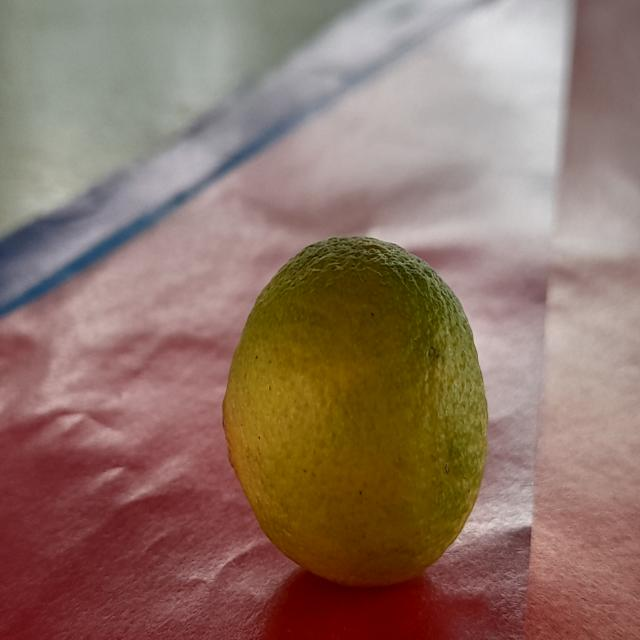greening: (218, 231, 499, 598)
